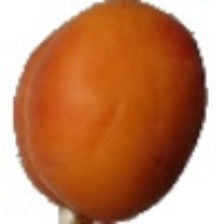apricot: (5, 1, 190, 181)
